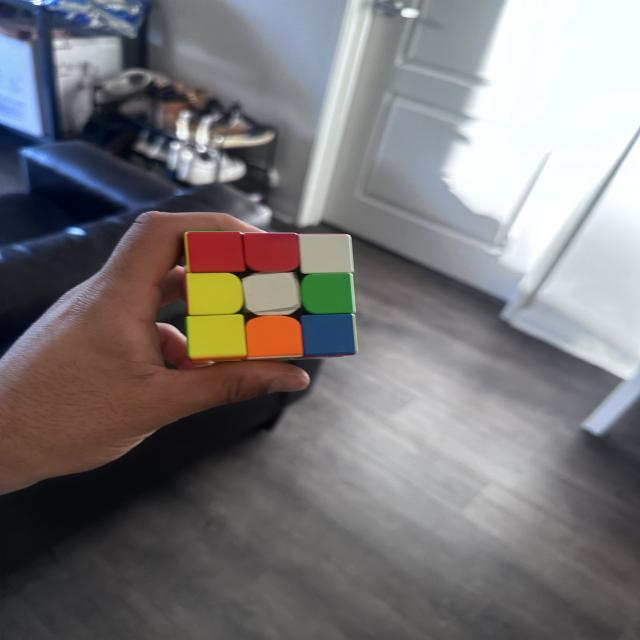sticker: (185, 312, 249, 362), (243, 313, 304, 361), (183, 229, 246, 275), (184, 272, 246, 317), (240, 271, 302, 316), (299, 312, 358, 359), (240, 231, 301, 275), (296, 232, 355, 276), (300, 272, 357, 316)
